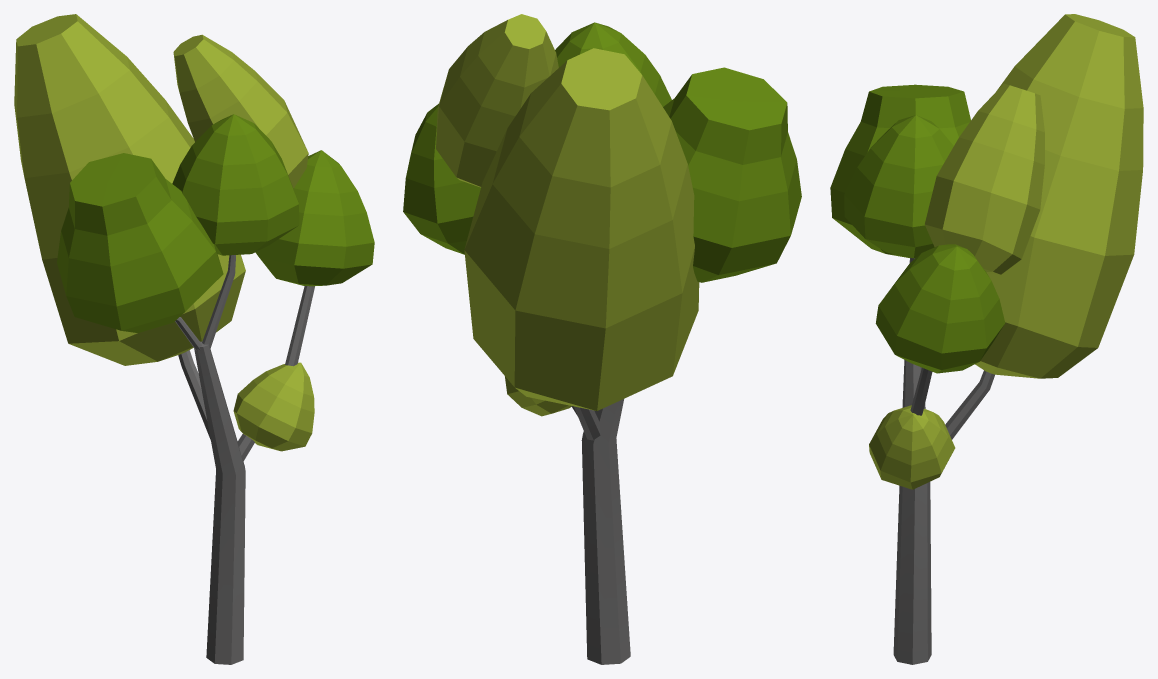
Rendered from massstree3.fbx.
The picture shows the model from 3 angles, left to right: view 1: azimuth 30°, elevation 25°; view 2: azimuth 150°, elevation 25°; view 3: azimuth 270°, elevation 25°; orthographic projection. The views are drawn at different scales.
Visible parts, largest first — view 1: polySurface16; view 2: polySurface16; view 3: polySurface16.
Part boxes in pixels (x1,y1,x2,y2): polySurface16: (14, 14, 374, 664); polySurface16: (403, 14, 801, 664); polySurface16: (830, 14, 1143, 664).
Size of the model in its own units: 16.44 by 29.76 by 14.04.
